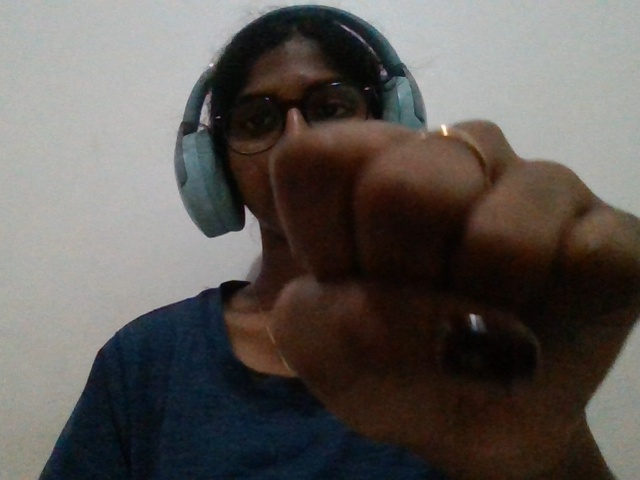Yes: (242, 92, 640, 451)
